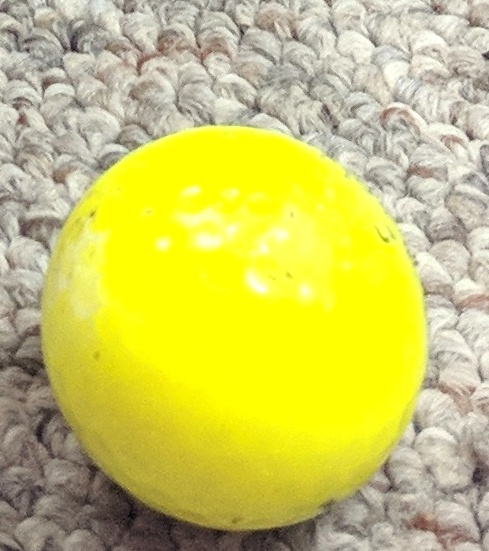ball: (43, 121, 430, 533)
